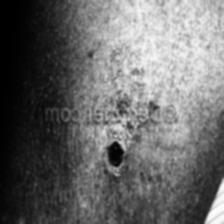Potentially Malignant Skin Tumors: (101, 130, 132, 178)
